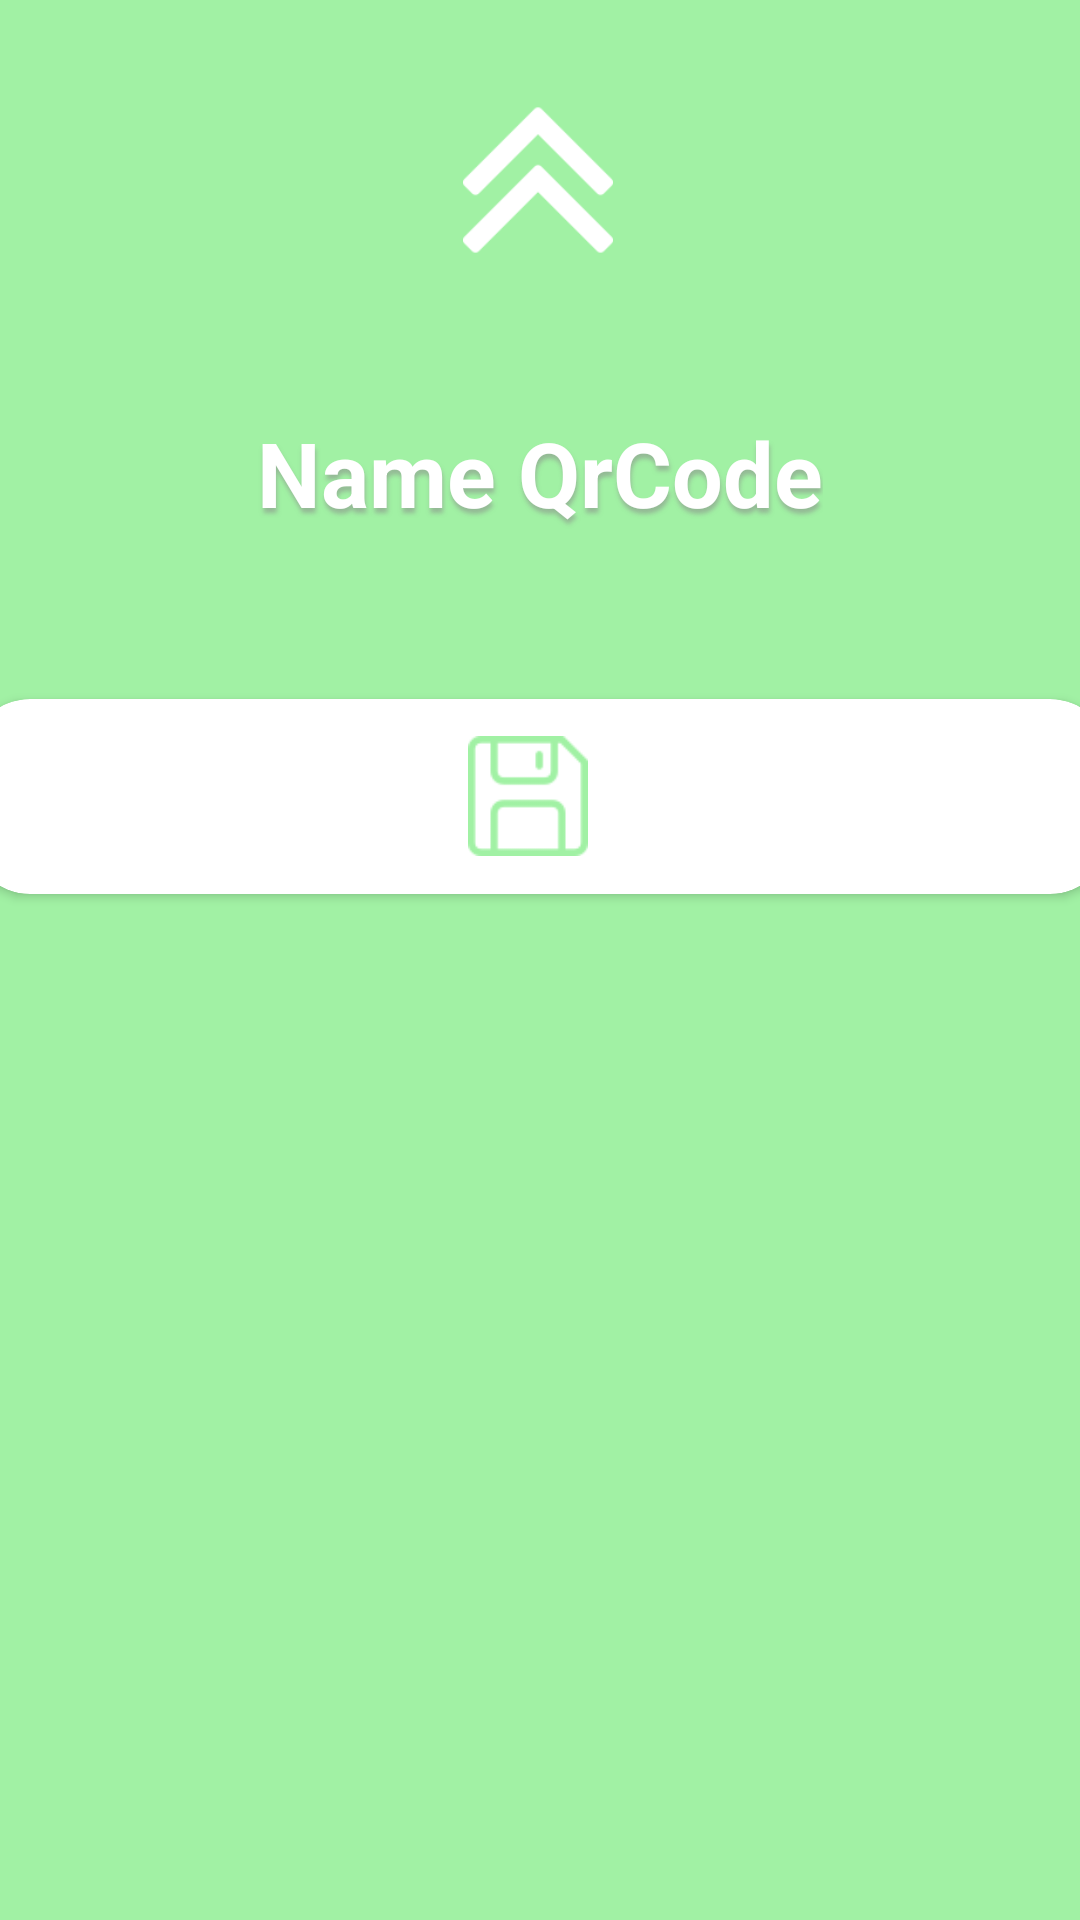

Where icons sit on this 1080*1920 app screen, as bbox=(x1, y1, x2, y2):
chevron vers le haut: bbox=(463, 107, 613, 253)
save: bbox=(468, 736, 588, 856)
